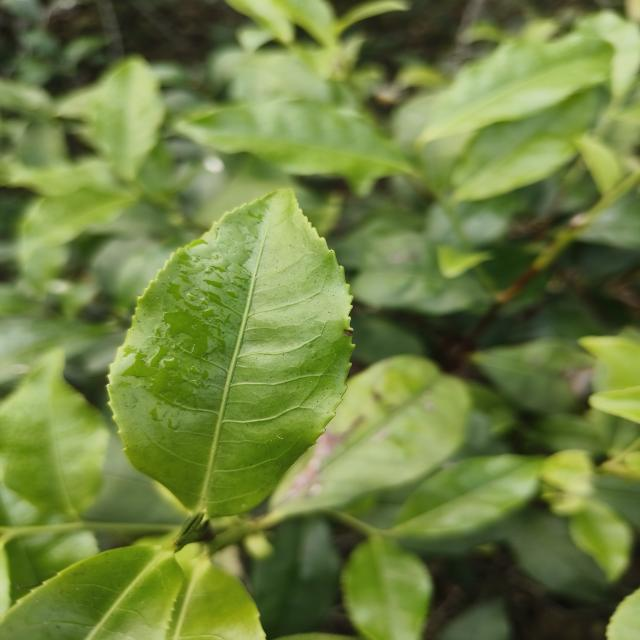Leaf: (109, 190, 352, 516), (269, 355, 470, 515), (175, 100, 411, 195), (416, 34, 613, 144), (0, 349, 109, 519), (0, 546, 183, 640), (451, 91, 598, 201), (334, 218, 488, 315), (391, 454, 542, 538), (251, 517, 341, 639), (506, 507, 608, 601), (87, 57, 164, 180), (471, 338, 593, 414), (342, 537, 432, 640), (21, 188, 133, 264), (166, 556, 265, 640), (569, 499, 633, 581), (276, 0, 336, 45)
